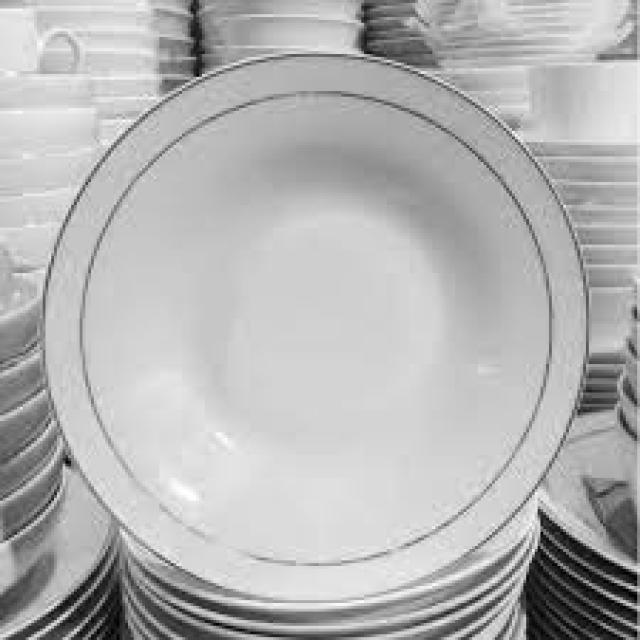dish: (16, 19, 606, 618)
